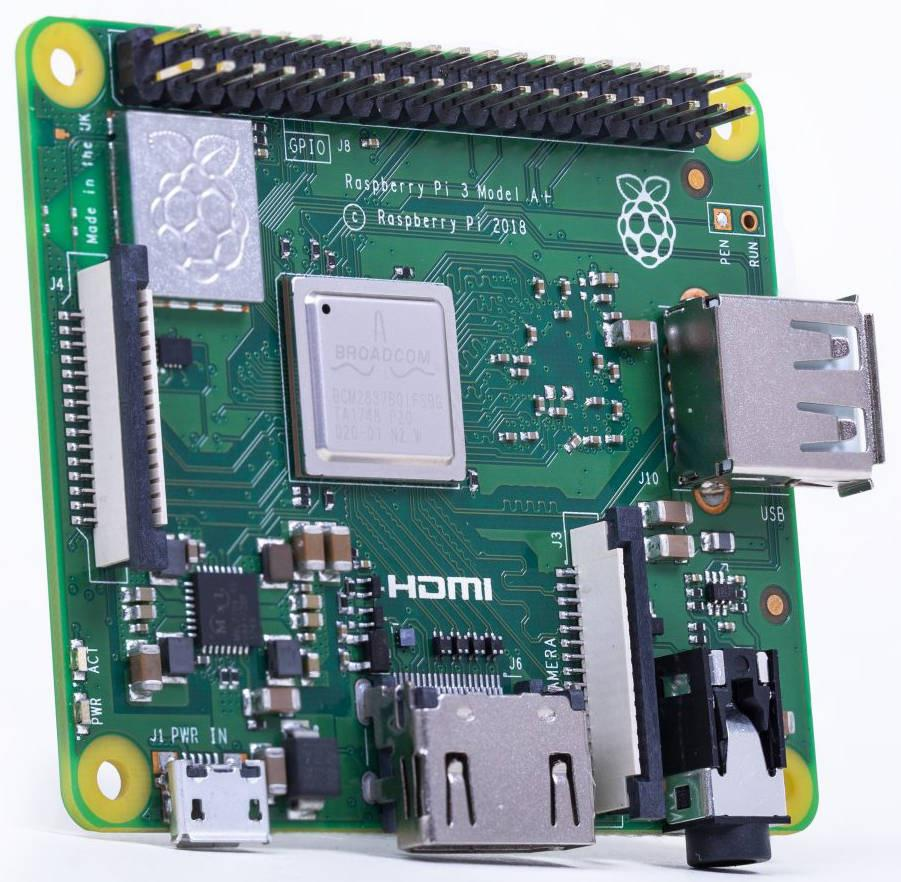audiojack: (660, 649, 791, 875)
bchi: (290, 281, 473, 487)
gpio: (109, 25, 726, 149)
